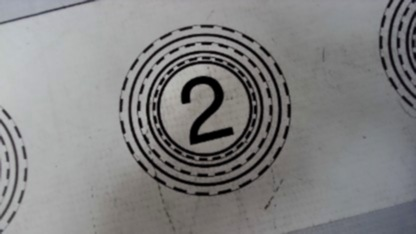2r: (116, 24, 292, 196)
